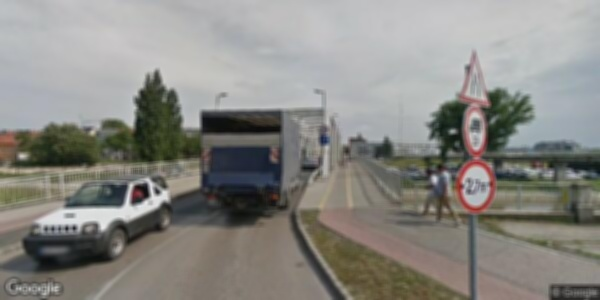f_others: (454, 159, 497, 214), (462, 103, 487, 158)
